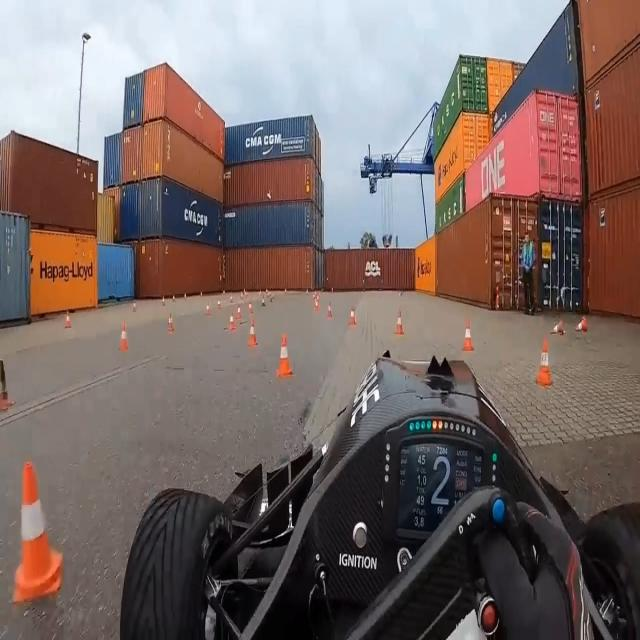Orange cone: (5, 435, 82, 623), (528, 328, 554, 403), (266, 325, 298, 385), (112, 311, 140, 367), (0, 339, 16, 425), (456, 308, 480, 360), (544, 304, 568, 348), (571, 296, 592, 344), (343, 300, 367, 342), (64, 300, 80, 341), (392, 297, 406, 342), (248, 312, 262, 351), (309, 286, 326, 318), (324, 300, 340, 328), (166, 306, 178, 337), (228, 316, 241, 337), (157, 290, 168, 309)
